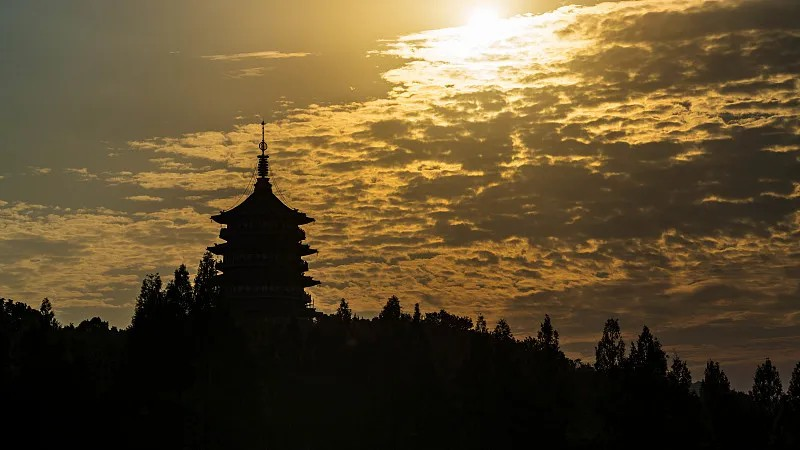Leifeng: (208, 121, 325, 333)
